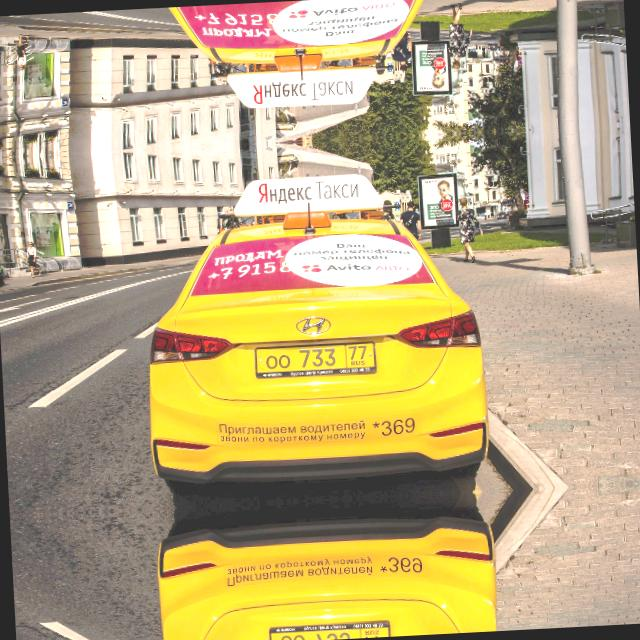taxi: (250, 336, 382, 385), (264, 614, 395, 640)
